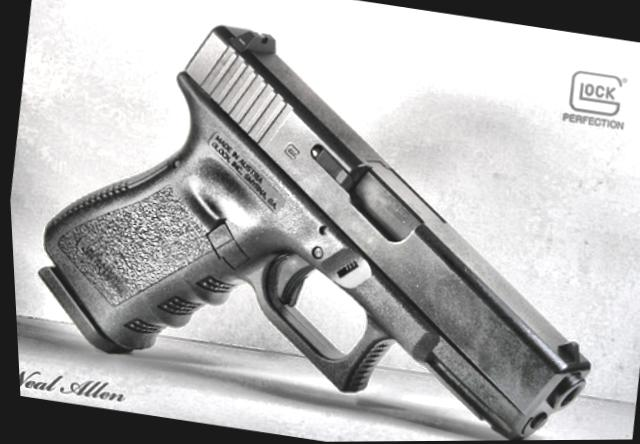pistol: (8, 0, 632, 444)
